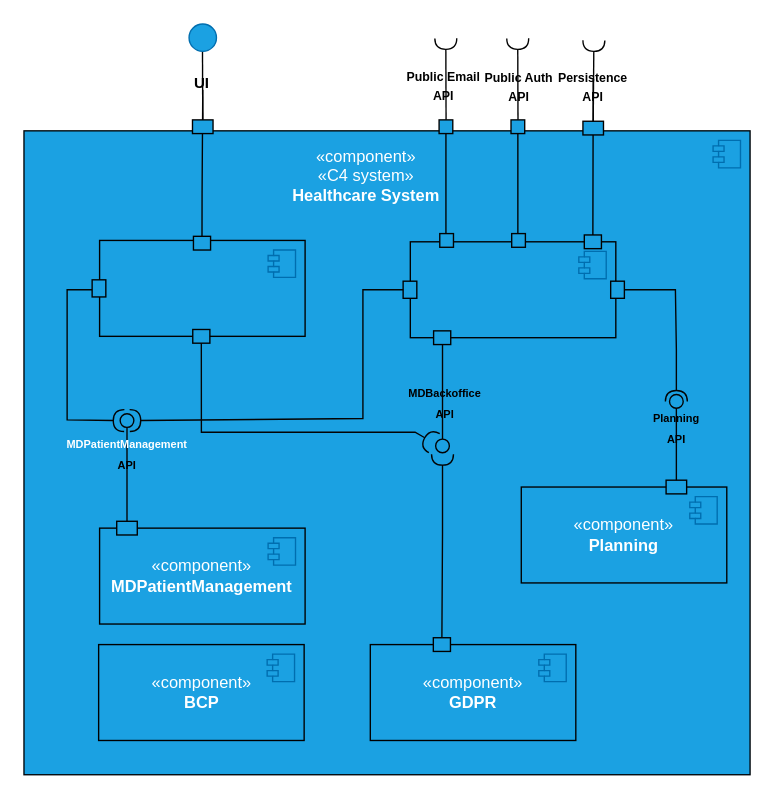
This 774x799 diagram has some shape labels left out. The box of each missing label's shape, as (x1, y1, x2, y2) in pixels:
«component» MDBackoffice: (409, 240, 616, 338)
«component» Visualization (UI): (98, 239, 305, 336)
